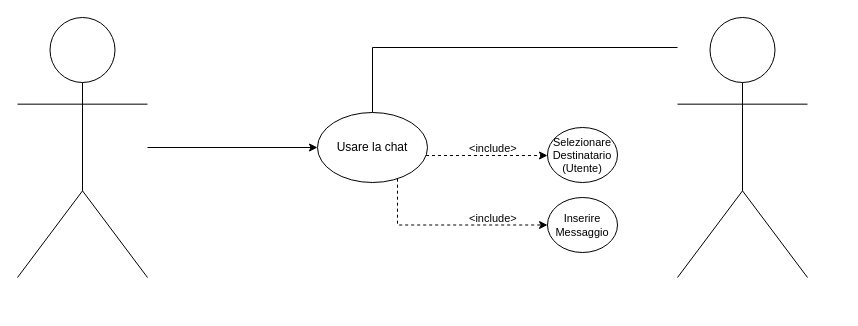
This 858x326 diagram has some shape labels left out. The box of each missing label's shape, as (x1, y1, x2, y2) in pixels:
MongoDB (DataBase): (676, 16, 808, 278)
Tutor: (16, 16, 148, 278)
